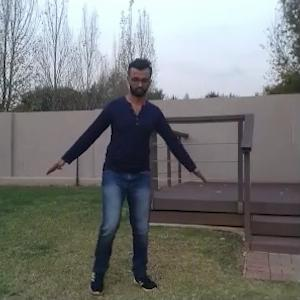land: (49, 57, 208, 293)
